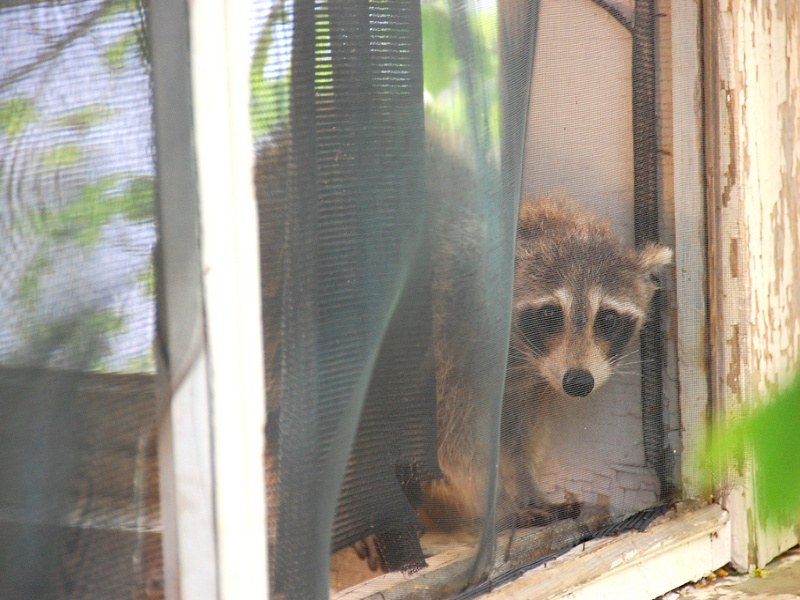raccoon: (203, 103, 675, 525)
